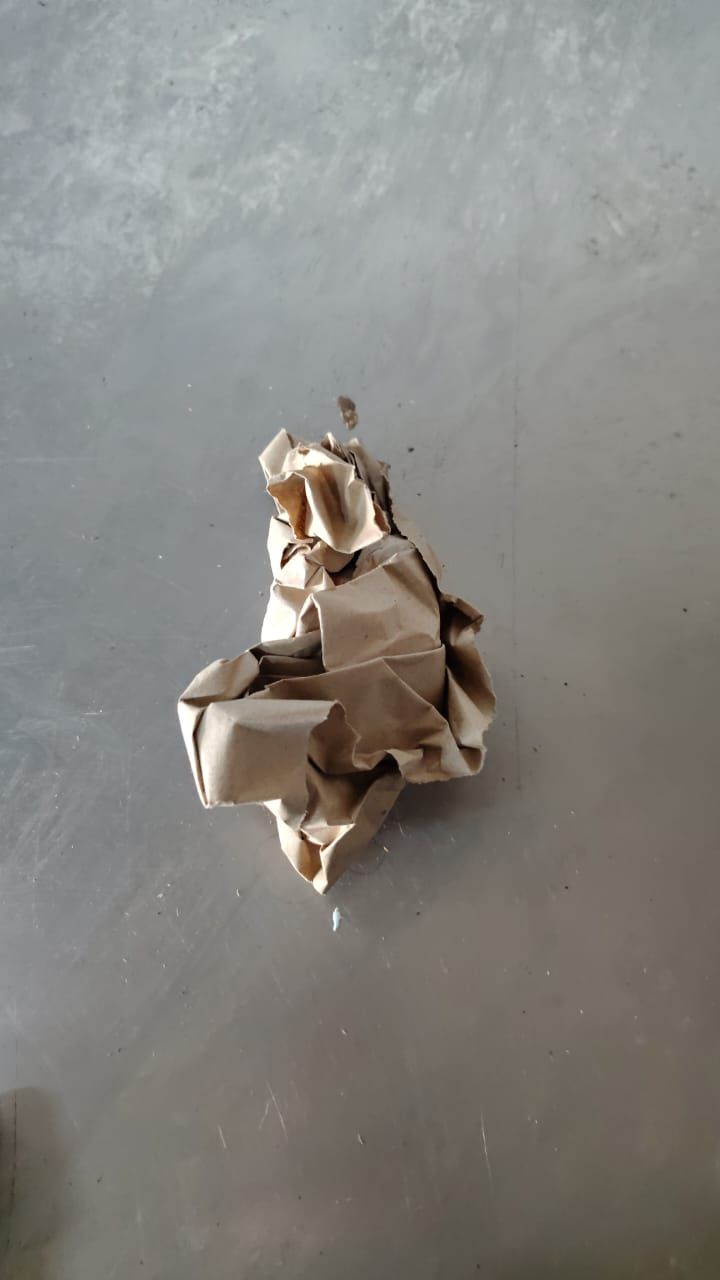Papel: (177, 428, 502, 896)
